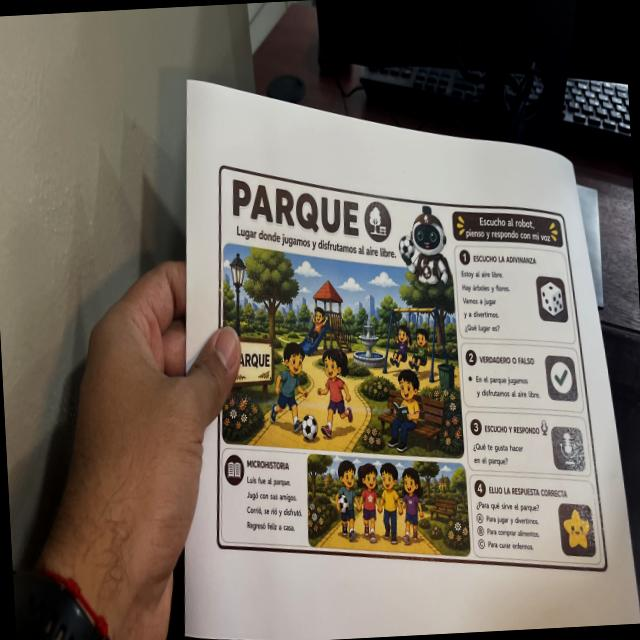parque: (194, 138, 612, 600)
